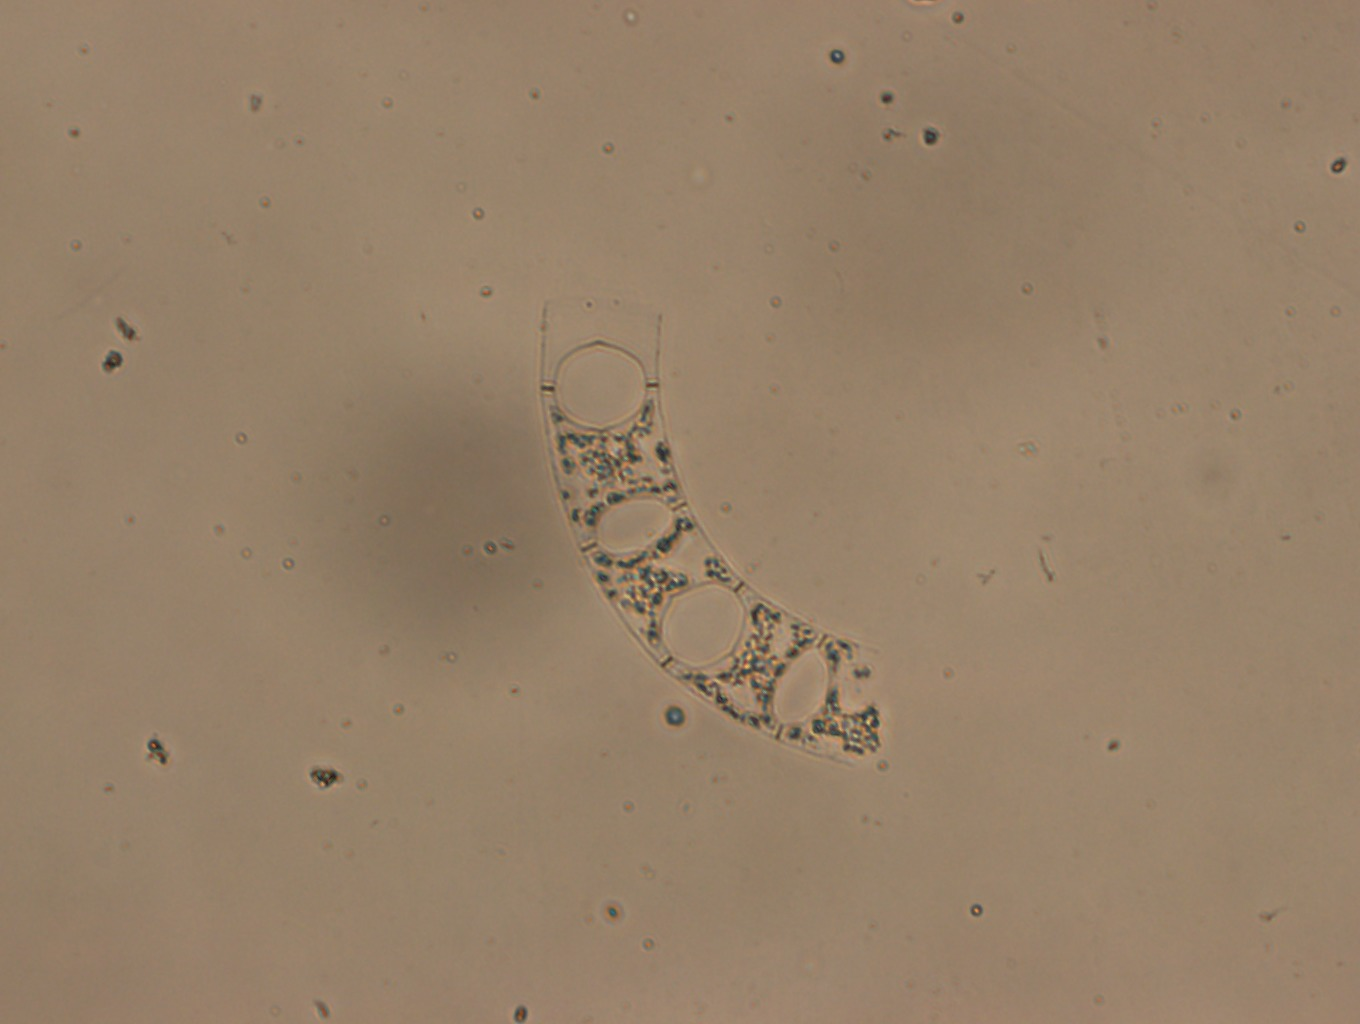eucampia: (539, 299, 884, 769)
